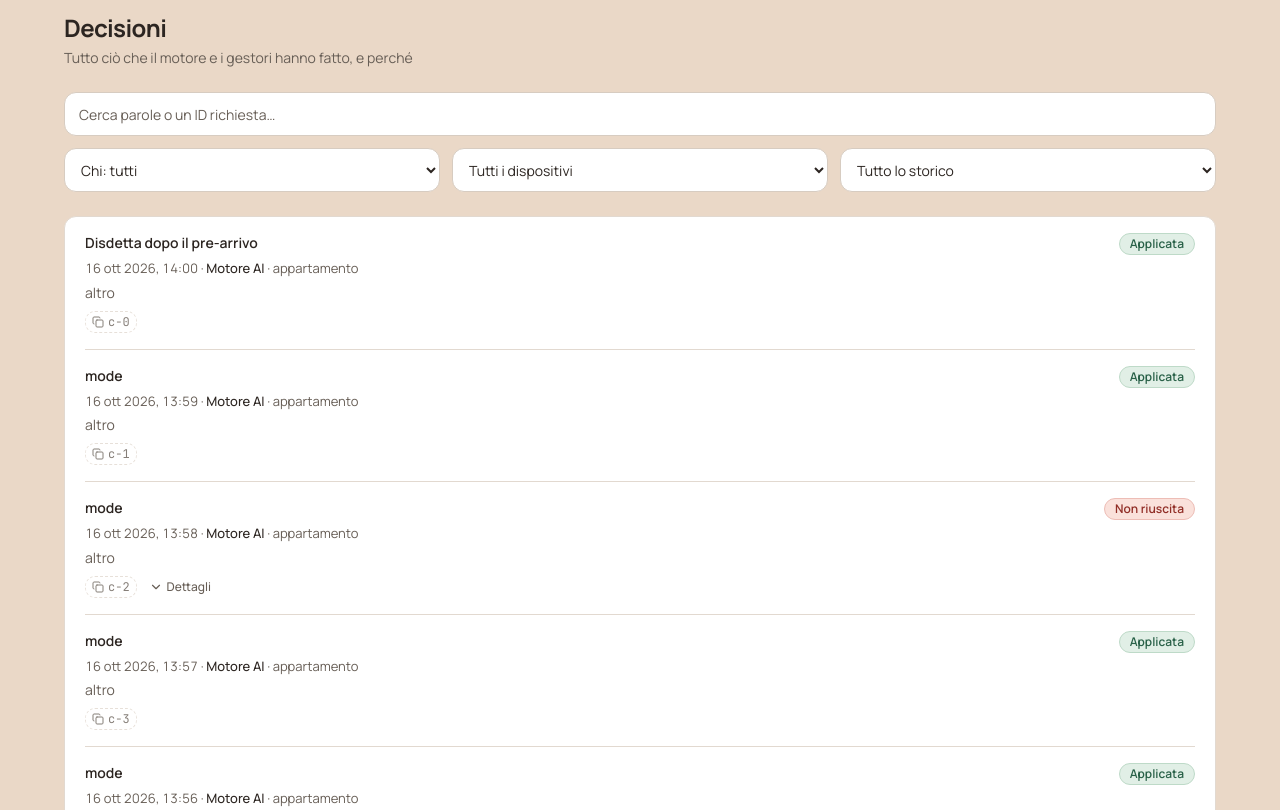
Test: Decisioni: la riga (design, lotto 2) › esito come badge a colore pieno (lotto 34); il codice del comando dietro «Dettagli»
The width and height of the screenshot is (1280, 810).
Expected: the list item with test id "decision-row-d-2" does not show "cmd-2222", [85,481,1195,614]
Click the button with test id "decision-details-toggle-d-2".
click(180, 586)  # box [149,578,211,594]
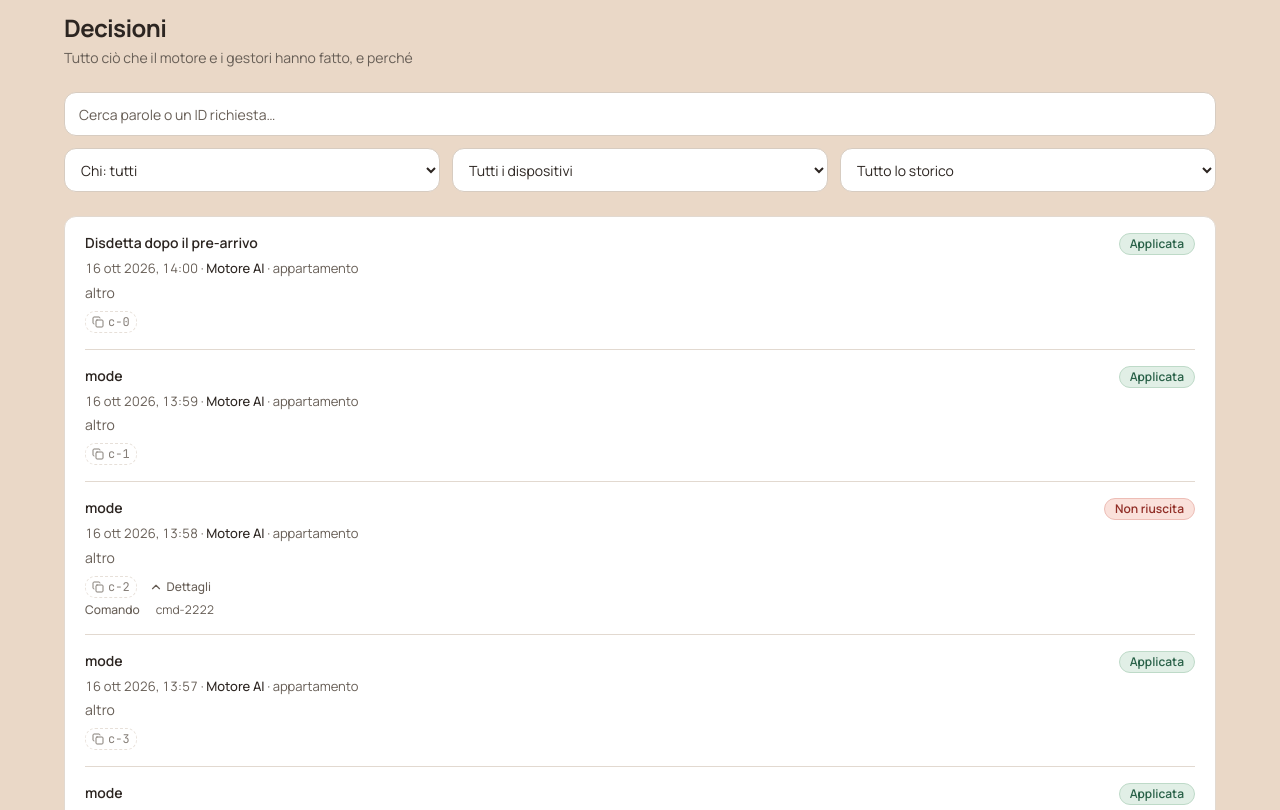
Expected: the button with test id "decision-correlation-d-2" is shown, [85,576,137,598]
Now the element with test id "decision-details-d-2" shows "cmd-2222", box [156,600,214,618]
